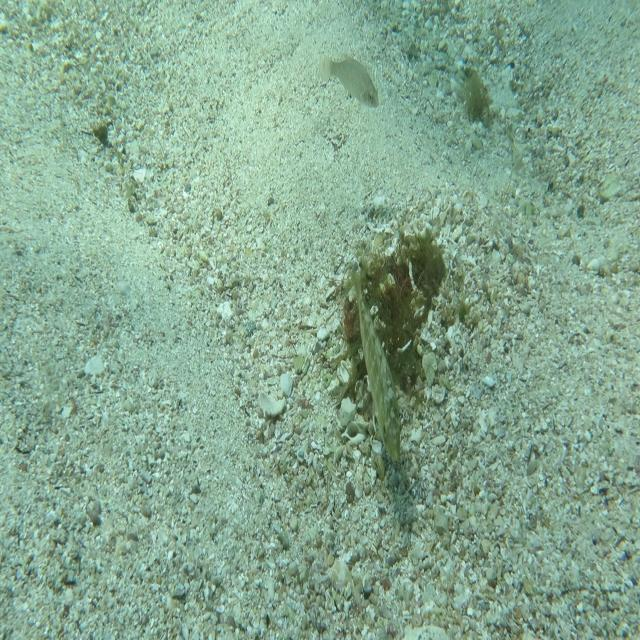SA: (348, 258, 404, 465)
core_nest: (399, 253, 440, 287)
female: (317, 49, 380, 110)
nest: (337, 219, 462, 414)
